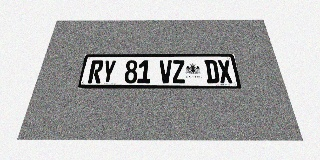1: (137, 60, 151, 83)
8: (124, 60, 138, 83)
D: (204, 60, 220, 83)
R: (87, 60, 104, 83)
V: (159, 60, 172, 83)
X: (217, 60, 233, 83)
Y: (101, 60, 116, 83)
Z: (172, 60, 186, 83)
